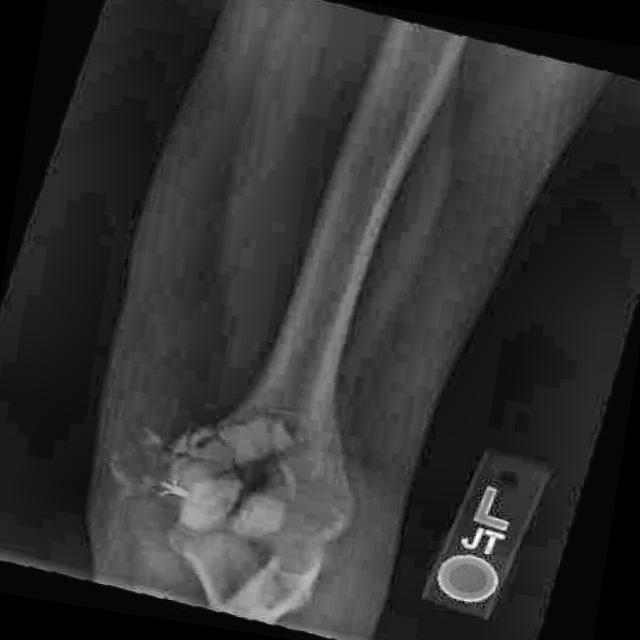elbow positive: (141, 386, 305, 550)
